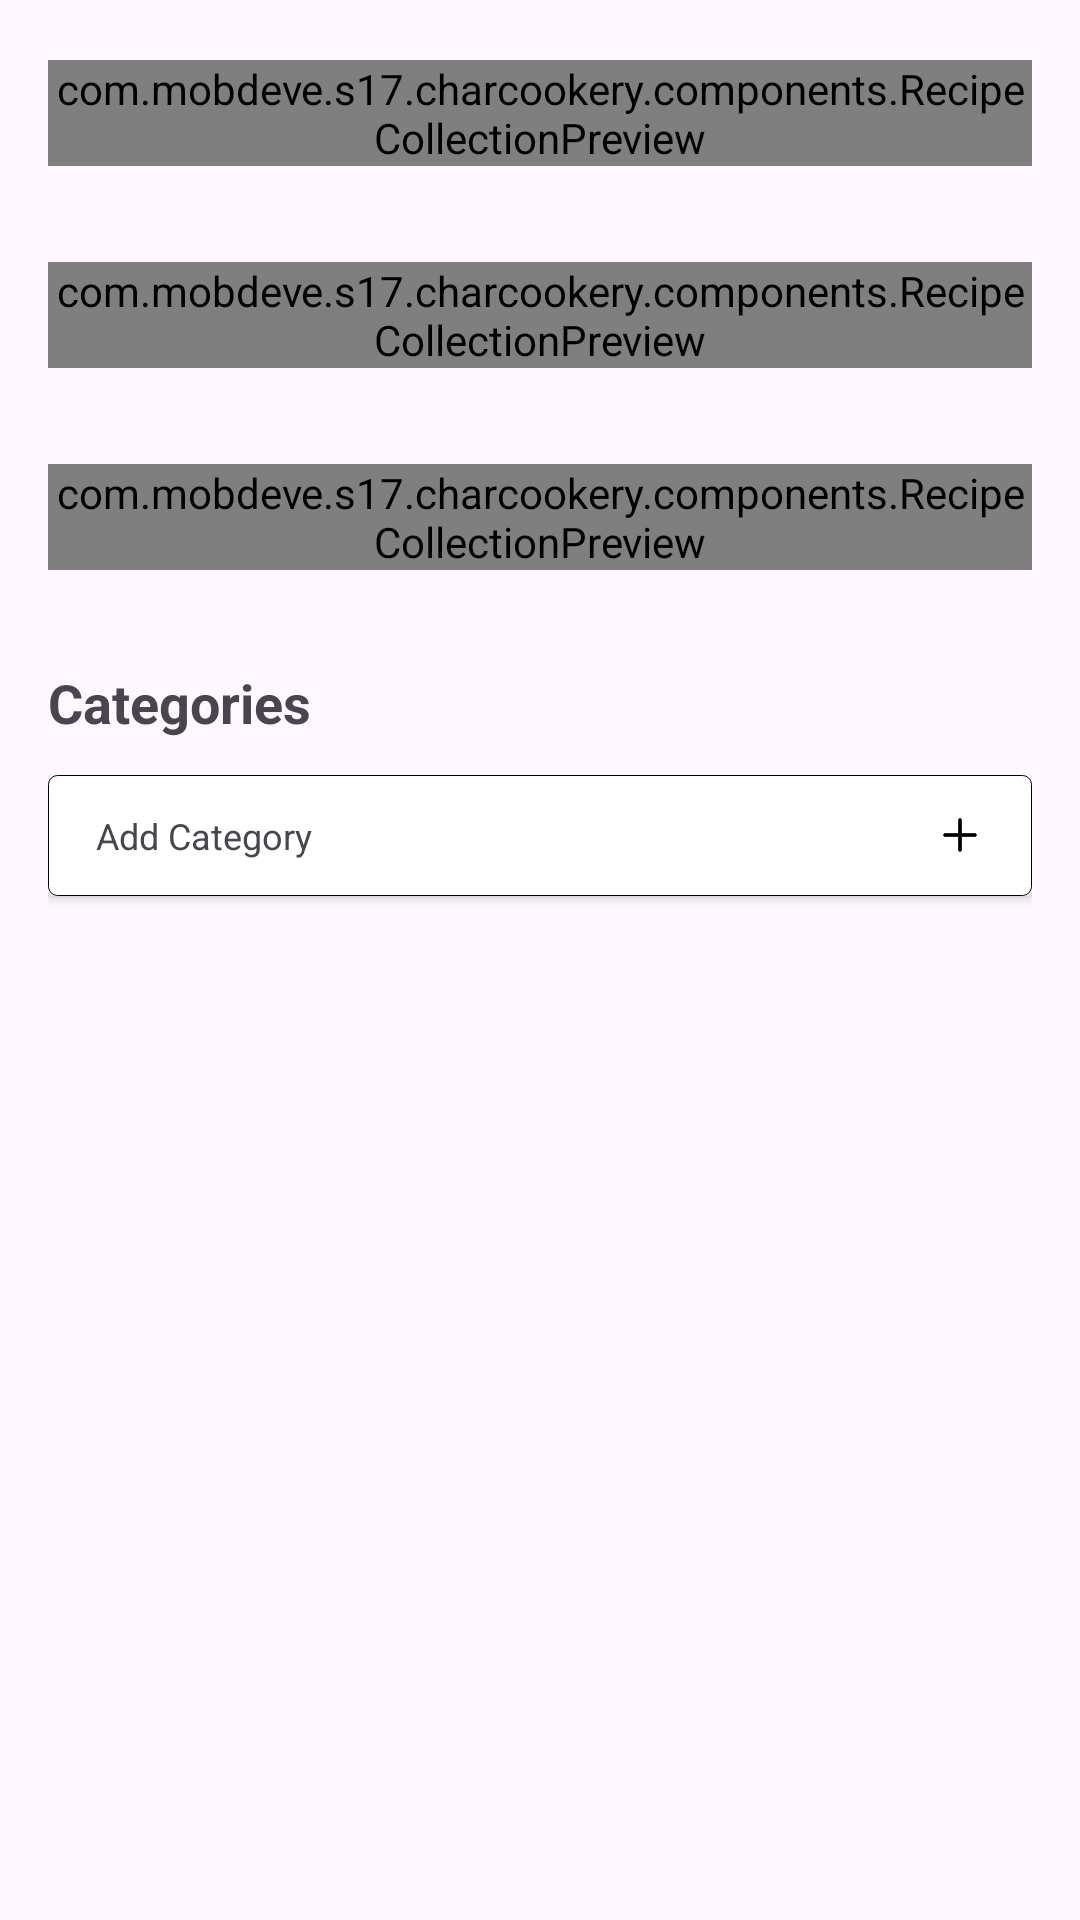

Screen size 1080x1920. Icon name, then its center in pixels as (x,y):
plus: (960,835)
